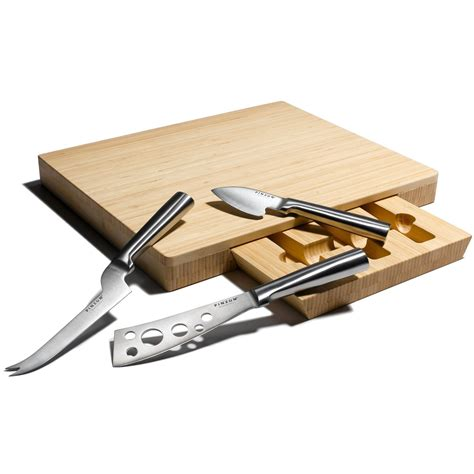knife: (9, 187, 192, 378), (115, 247, 371, 365), (210, 175, 390, 242)
